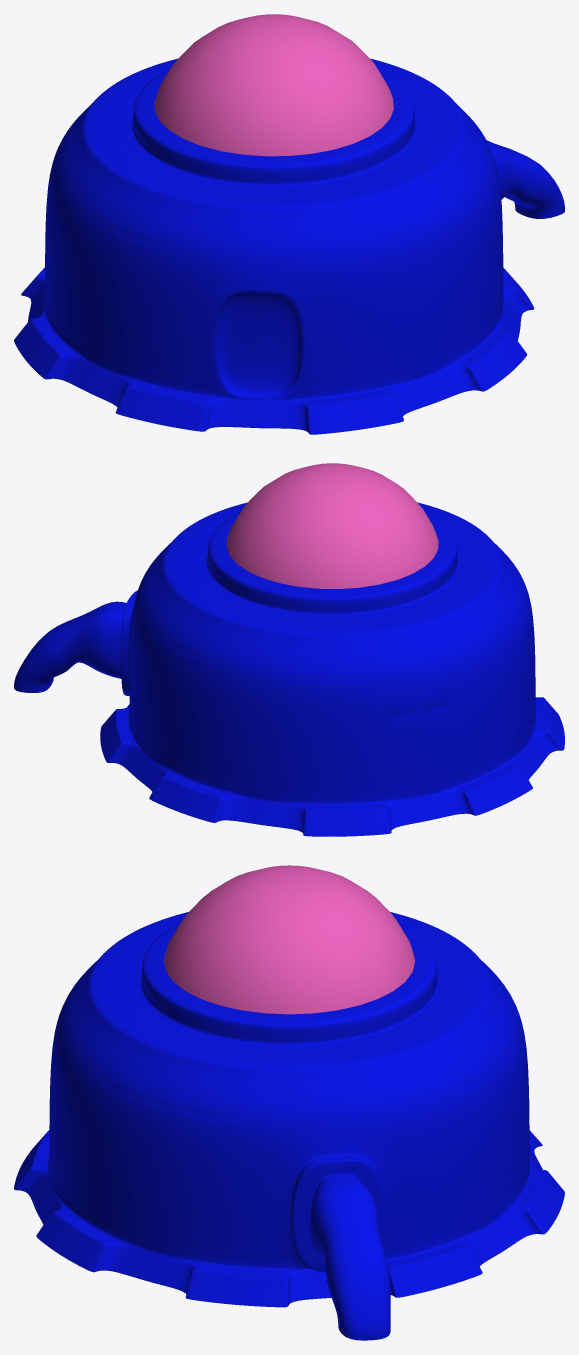
The model's file is BaseTower.gltf.
3 views of the same model, one above another, from view 1: azimuth 30°, elevation 25°; view 2: azimuth 150°, elevation 25°; view 3: azimuth 270°, elevation 25° (orthographic). The views are drawn at different scales.
Visible parts, largest first — view 1: Cylinder; view 2: Cylinder; view 3: Cylinder.
Part boxes in pixels (left/top/right/bottom): Cylinder: left=14, top=14, right=564, bottom=434; Cylinder: left=14, top=463, right=564, bottom=836; Cylinder: left=14, top=865, right=564, bottom=1340.
Size of the model in its own units: 53.25 by 27.76 by 44.23.
